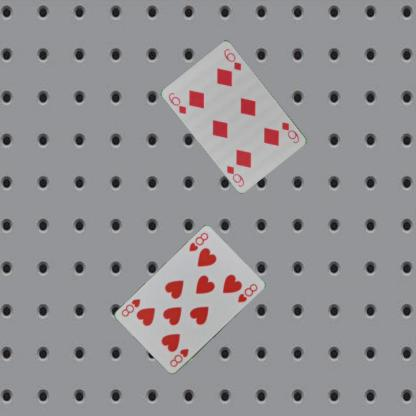6d: (166, 90, 188, 116), (279, 119, 301, 144)
8h: (186, 230, 210, 253), (167, 346, 190, 369)
